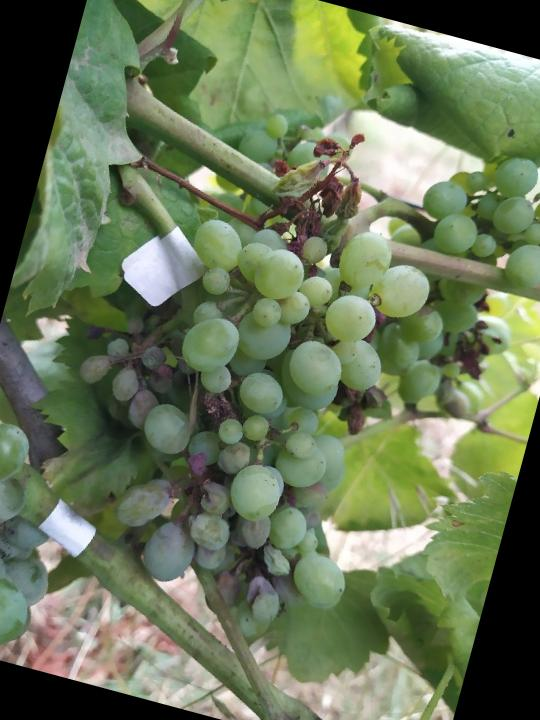grape: (23, 76, 473, 656), (350, 115, 540, 437)
